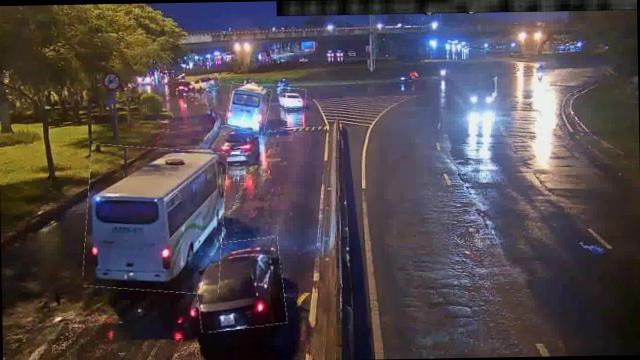Bus: (82, 144, 227, 294), (226, 83, 271, 131)
Car: (194, 238, 286, 331), (222, 125, 263, 170), (279, 88, 306, 110), (194, 74, 219, 90)
